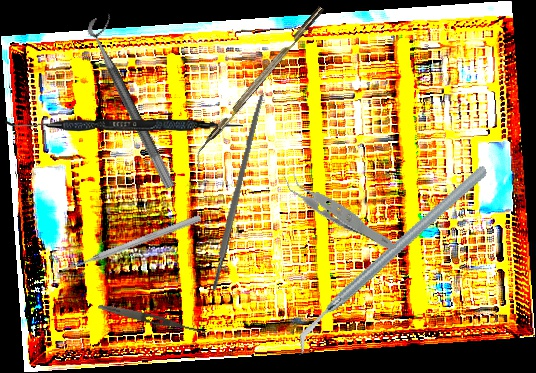Chopper: (259, 164, 524, 356), (186, 5, 332, 169)
Dressing Forceps: (97, 301, 208, 337)
Fixation Ring: (83, 11, 190, 191)
Pusher: (60, 212, 202, 276)
Scalpel Handle: (208, 93, 266, 292)
Spatula Surgical: (4, 115, 244, 135)
Tissue Forceps: (280, 140, 396, 279)
